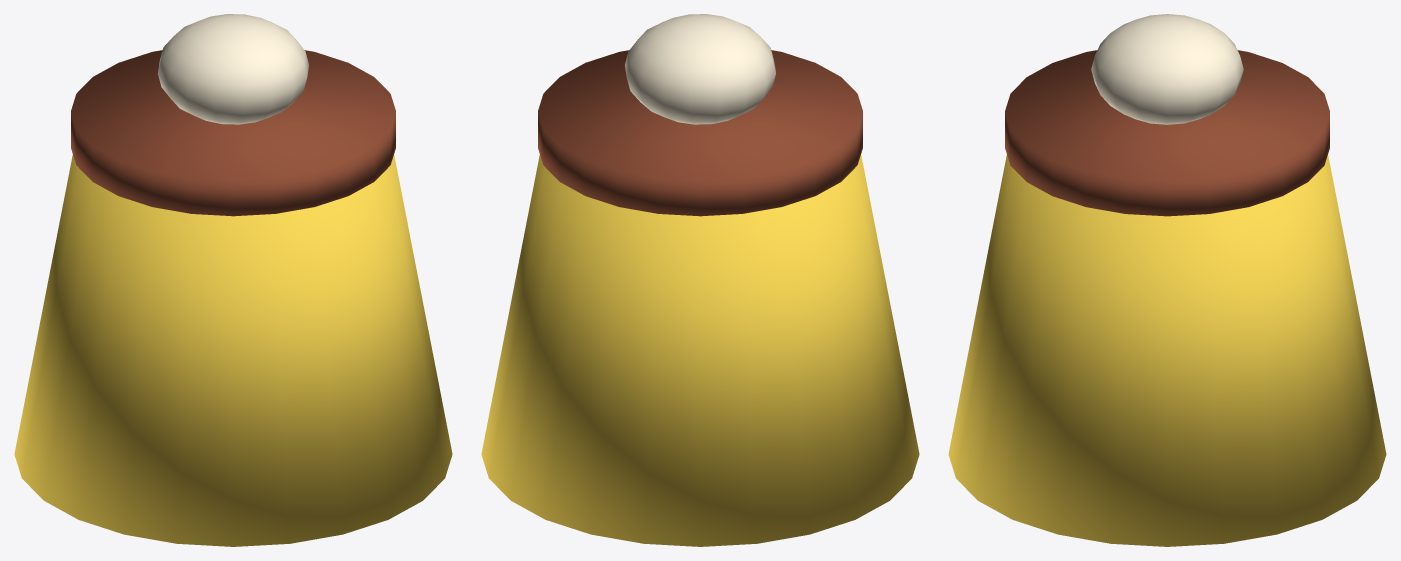
File: pudding.glb
The picture shows the model from 3 angles, left to right: view 1: azimuth 30°, elevation 25°; view 2: azimuth 150°, elevation 25°; view 3: azimuth 270°, elevation 25°; orthographic projection.
Parts seen in each view (by area): view 1: pudding; view 2: pudding; view 3: pudding.
Part boxes in pixels (x1,y1,x2,y2): pudding: (14,14,452,546); pudding: (481,14,919,546); pudding: (948,14,1386,546).
Bounding box in the file's own units: 0.9231 × 1 × 0.9231.
